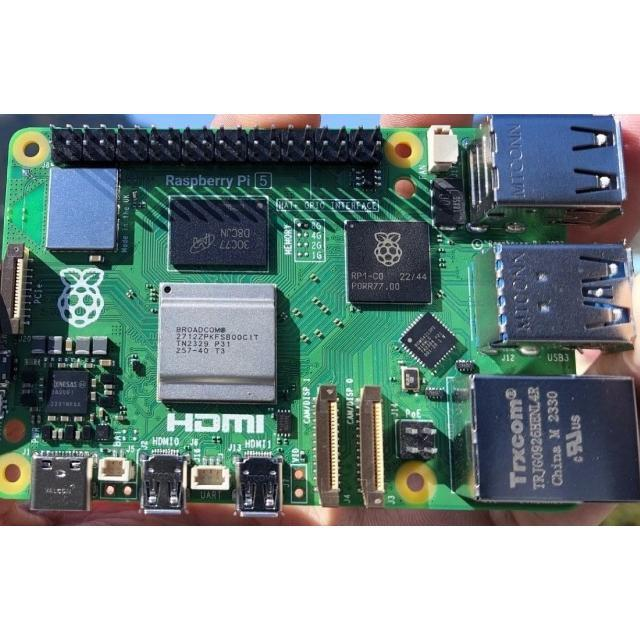Raspberry-Pi-5: (1, 116, 640, 516)
